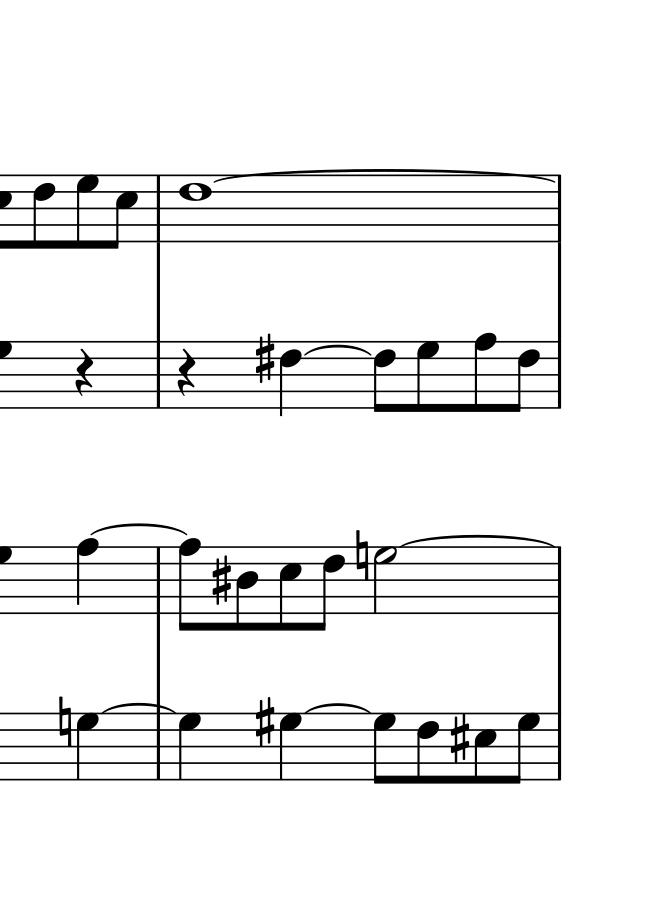1_6: (178, 175, 211, 245)
2_5: (373, 545, 397, 615)
4_6: (279, 339, 302, 418)
4_7: (278, 710, 304, 780), (75, 711, 101, 780), (176, 712, 202, 781)
4_8: (74, 536, 99, 617)
8_4: (235, 545, 259, 633)
8_5: (108, 173, 138, 251), (277, 544, 302, 632), (472, 711, 497, 786)
8_6: (312, 547, 347, 635), (510, 341, 542, 413), (31, 172, 56, 250), (372, 338, 397, 415), (415, 710, 439, 786)
8_7: (509, 711, 539, 785), (74, 172, 99, 250), (414, 339, 440, 413), (372, 711, 396, 786)
8_8: (175, 537, 200, 633), (472, 331, 497, 416)
Natural: (354, 526, 369, 583), (57, 694, 72, 751)
Rests4: (174, 348, 198, 400), (72, 348, 96, 399)
Sharp: (449, 711, 471, 765), (253, 696, 275, 749), (211, 554, 232, 607), (254, 333, 275, 385)
Single_barline: (152, 547, 168, 614), (151, 341, 167, 407), (551, 714, 567, 780), (151, 176, 167, 240), (552, 341, 567, 409), (153, 718, 169, 781), (552, 547, 567, 614), (552, 176, 567, 242)
Slur: (212, 167, 557, 184), (400, 533, 552, 545), (88, 523, 188, 538), (303, 344, 374, 358), (304, 702, 370, 715), (98, 702, 174, 712)
